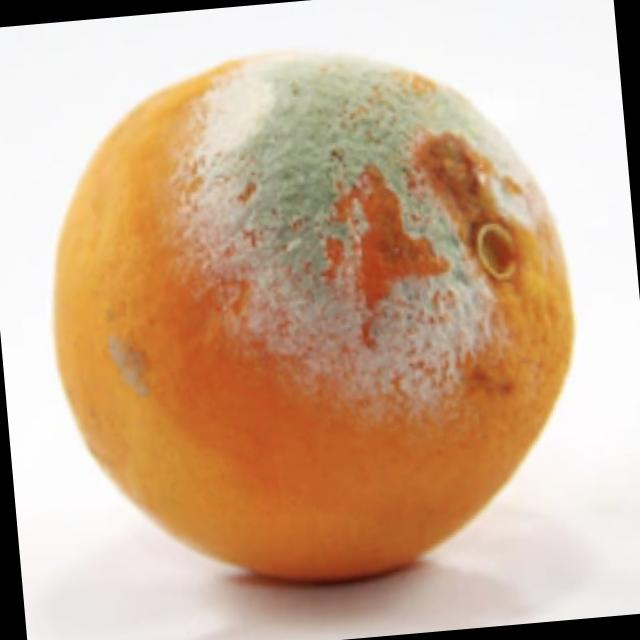rotten-orange: (37, 26, 588, 602)
